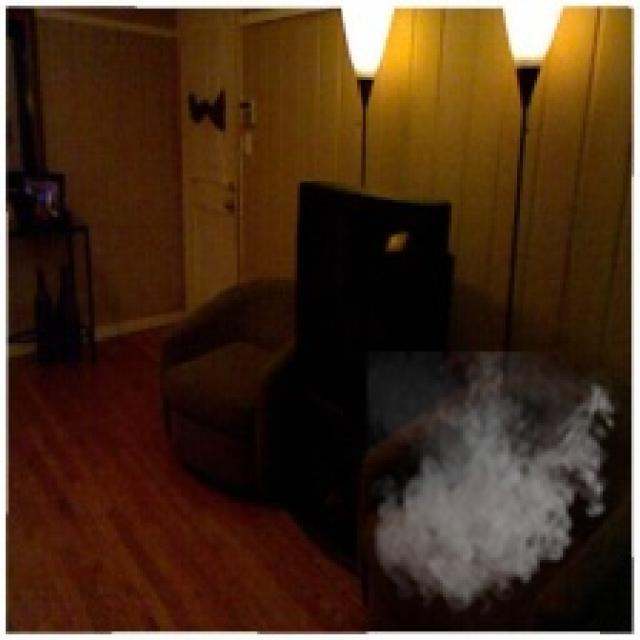Smoke: (366, 351, 623, 620)
